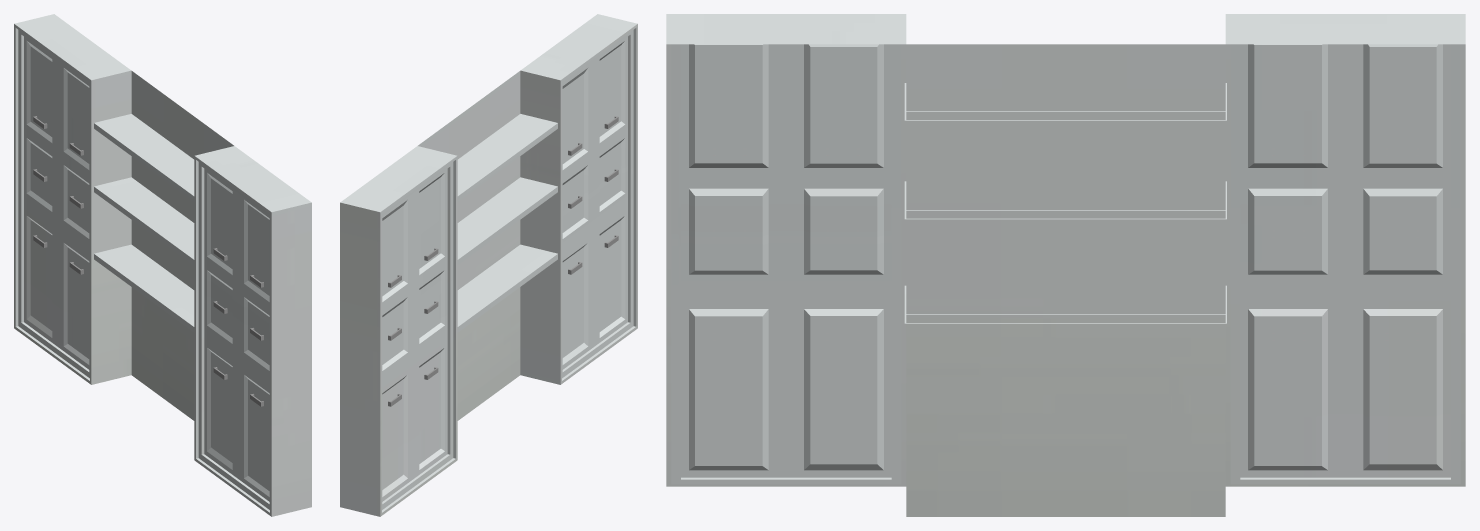
Rendered from huizi01.fbx.
The picture shows the model from 3 angles, left to right: view 1: azimuth 30°, elevation 25°; view 2: azimuth 150°, elevation 25°; view 3: azimuth 270°, elevation 25°; orthographic projection. The views are drawn at different scales.
Visible parts, largest first — view 1: huizi01; view 2: huizi01; view 3: huizi01.
Boxes of the visible parts, box(x1,y1,x2,y2) form: huizi01: box(14, 14, 311, 516); huizi01: box(340, 14, 637, 516); huizi01: box(666, 14, 1465, 516).
Bounding box in the file's own units: 39.67 × 281 × 431.
